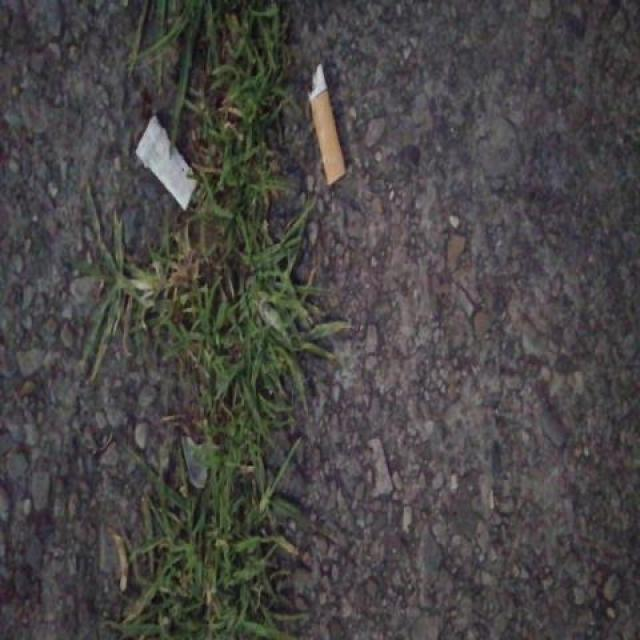non-organic waste: (130, 109, 205, 219), (299, 59, 353, 193)
